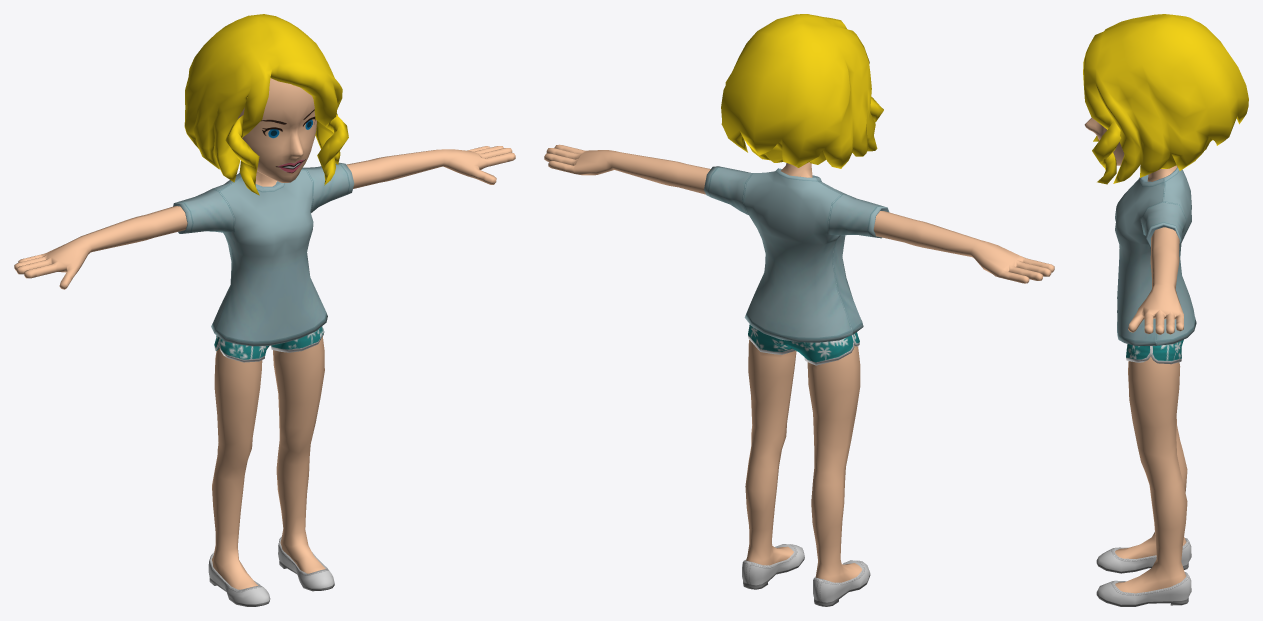
The model's file is MS3D - Female Blonde Hair.glb.
3 renders of one model, left to right at view 1: azimuth 30°, elevation 25°; view 2: azimuth 150°, elevation 25°; view 3: azimuth 270°, elevation 25°, orthographic.
Parts seen in each view (by area): view 1: girl_body_mesh_Natal.6, girl_top_Natal.7, FemaleHair_Natal.4, girlHead_BlendShapeEarDefault_Natal.5, girl_shoes_Natal.9, girl_bottoms_Natal.8; view 2: girl_body_mesh_Natal.6, FemaleHair_Natal.4, girl_top_Natal.7, girl_shoes_Natal.9, girl_bottoms_Natal.8; view 3: FemaleHair_Natal.4, girl_body_mesh_Natal.6, girl_top_Natal.7, girl_shoes_Natal.9, girl_bottoms_Natal.8, girlHead_BlendShapeEarDefault_Natal.5.
Part boxes in pixels (x1,y1,x2,y2): girl_body_mesh_Natal.6: (14, 146, 515, 589); girl_top_Natal.7: (173, 162, 354, 346); FemaleHair_Natal.4: (184, 14, 348, 195); girlHead_BlendShapeEarDefault_Natal.5: (238, 78, 316, 182); girl_shoes_Natal.9: (208, 536, 334, 606); girl_bottoms_Natal.8: (214, 326, 324, 362); girl_body_mesh_Natal.6: (544, 144, 1054, 582); FemaleHair_Natal.4: (721, 14, 883, 168); girl_top_Natal.7: (704, 166, 889, 342); girl_shoes_Natal.9: (742, 544, 870, 606); girl_bottoms_Natal.8: (748, 324, 859, 365); FemaleHair_Natal.4: (1083, 14, 1248, 184); girl_body_mesh_Natal.6: (1115, 165, 1187, 593); girl_top_Natal.7: (1115, 166, 1196, 345); girl_shoes_Natal.9: (1096, 538, 1191, 606); girl_bottoms_Natal.8: (1126, 339, 1183, 364); girlHead_BlendShapeEarDefault_Natal.5: (1084, 117, 1124, 165).
Bounding box in the file's own units: 1.42 × 1.52 × 0.4053.
6 materials, 6 textured.
